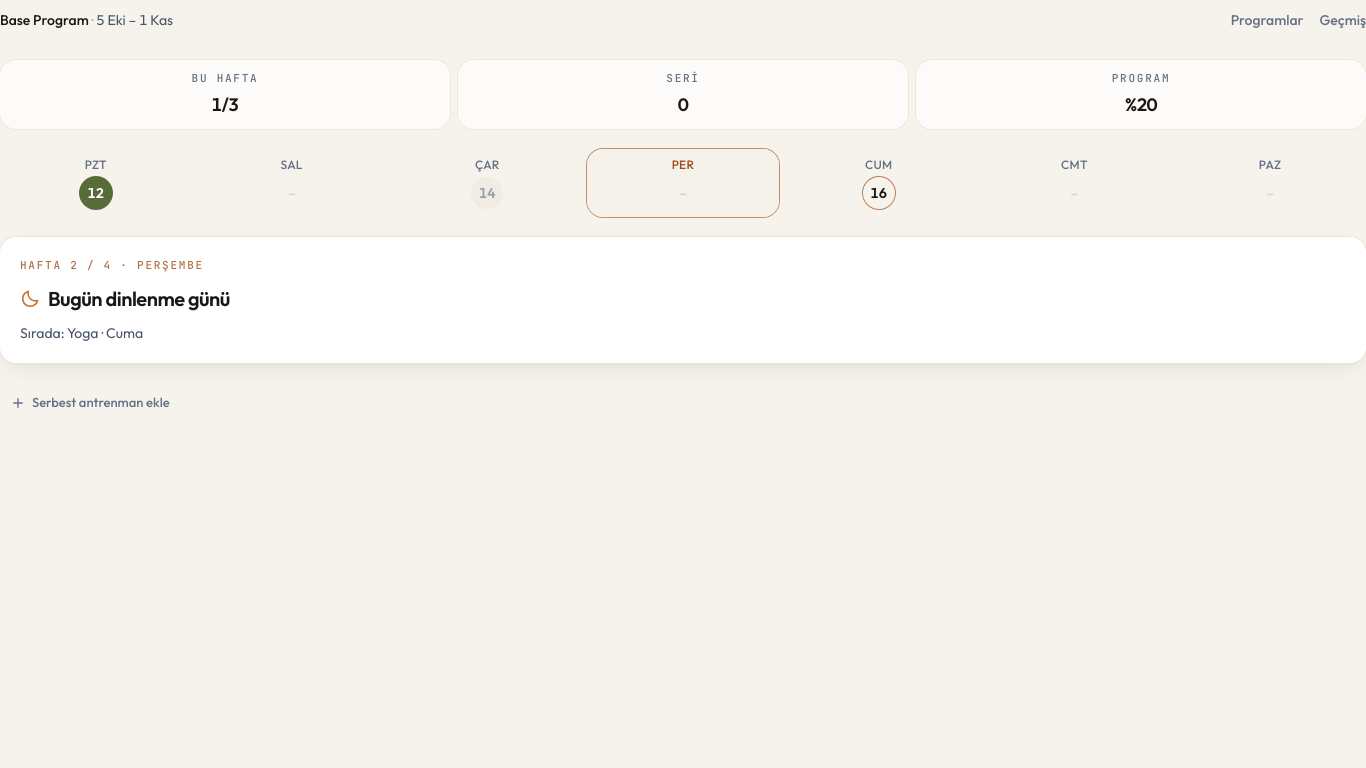
Test case: SportHome › opens the workout log modal from the free workout row
Click the button "Serbest antrenman ekle": [90, 403] box [0,383,180,423]
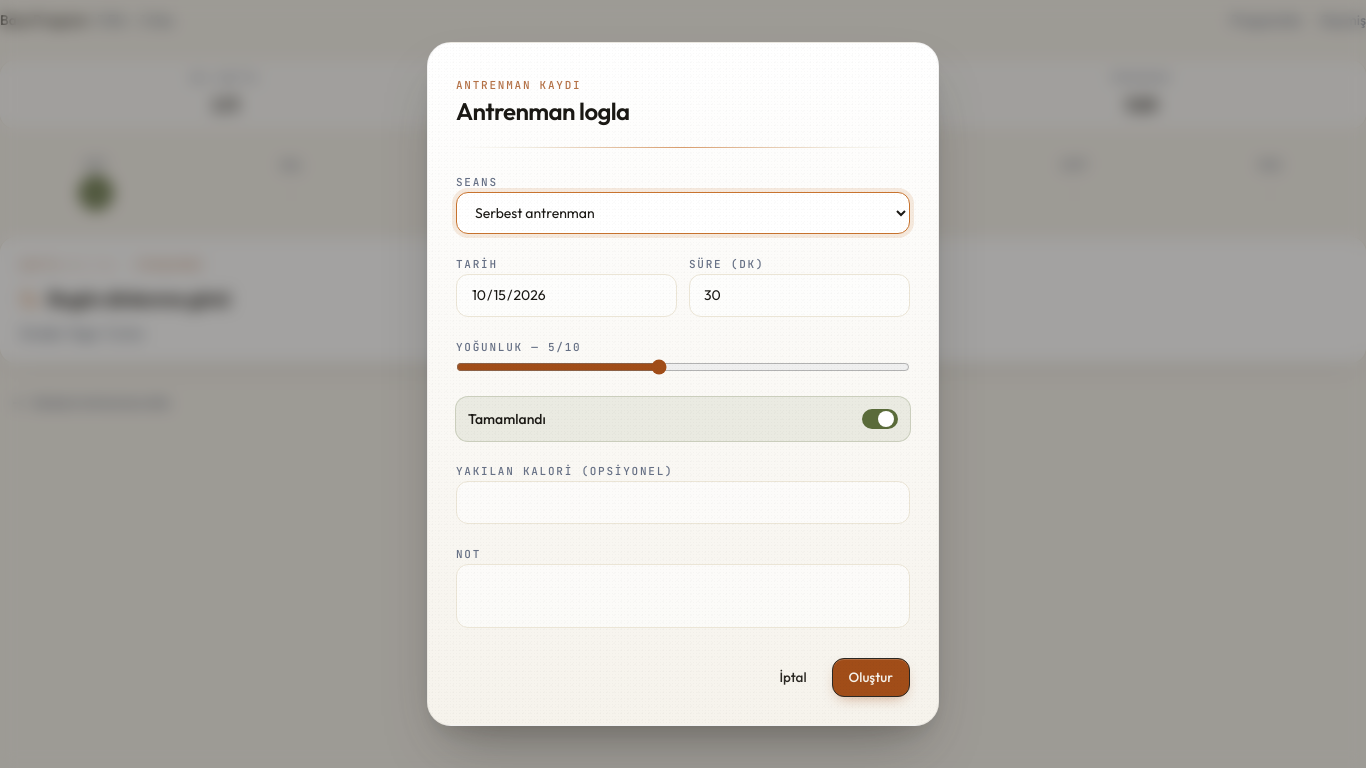
Expected: the heading "Antrenman logla" is shown, [456,95,630,127]
